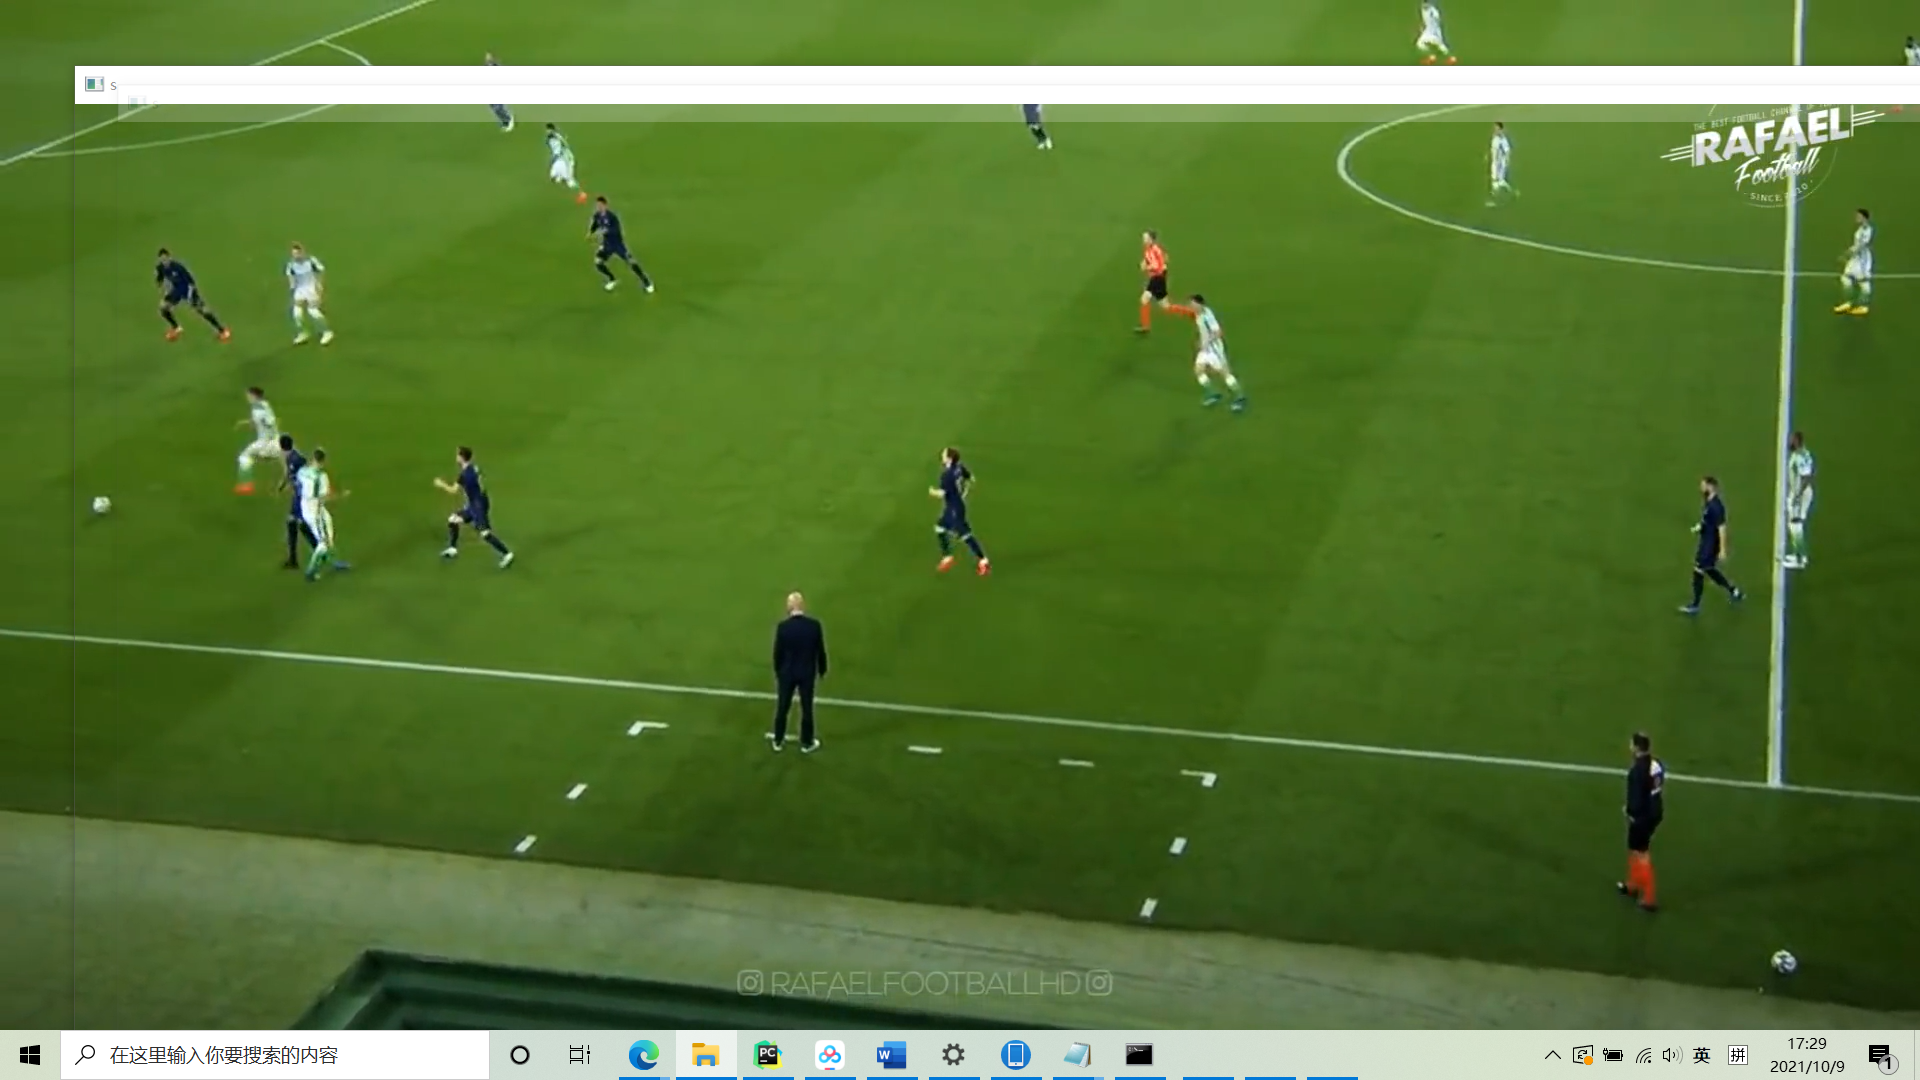ft: (87, 495, 113, 518)
